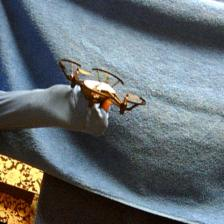drone: (58, 55, 148, 116)
